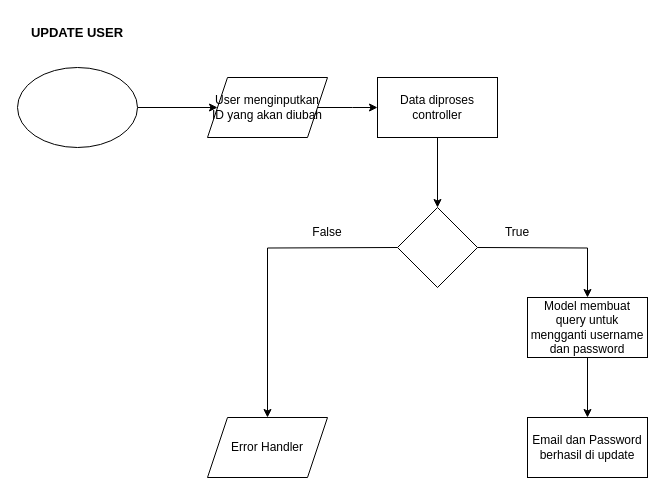
Some shapes in this 665 by 495 pixel diagram are drawn without their labels. Here are the shapes that lost their labels. From the top down, the centre of each, then its label:
At (77,107): "Mulai".
At (437,247): "Cek data apakah sesuai".
